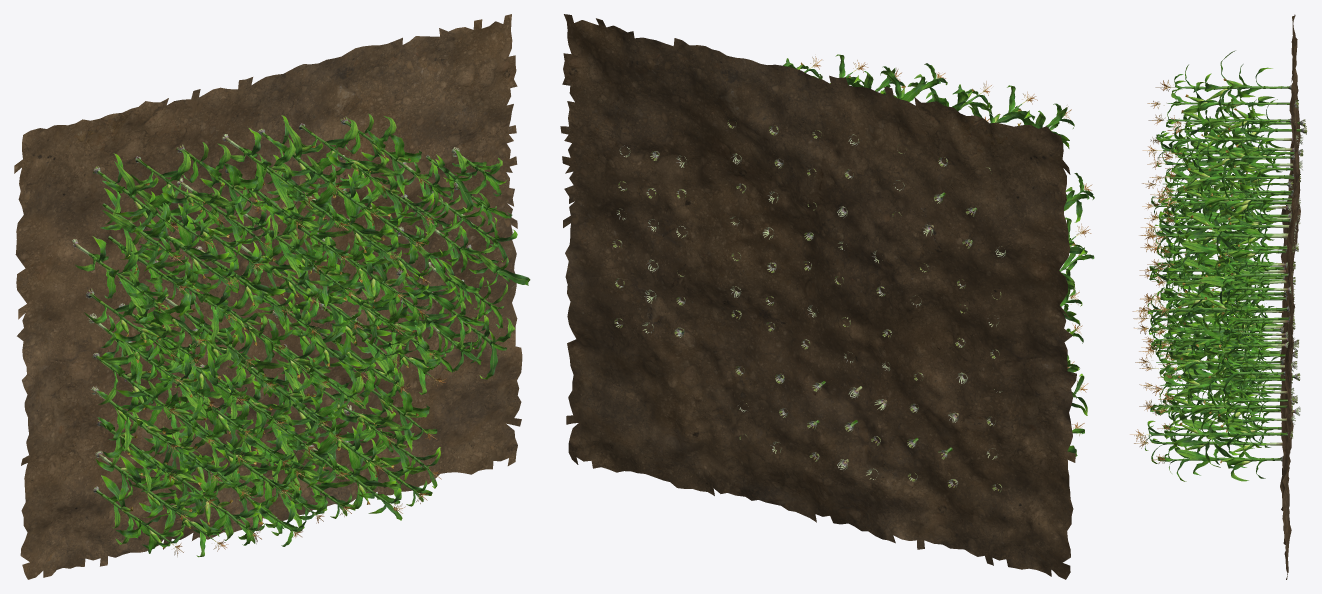
File: corn_field.fbx
3 views of the same model, side by side, from view 1: azimuth 30°, elevation 25°; view 2: azimuth 150°, elevation 25°; view 3: azimuth 270°, elevation 25° (orthographic). The views are drawn at different scales.
Visible parts, largest first — view 1: 3, 49, 25, 73, 14, 65, 41, 57, 177, 33, 145, 129 (+15 smaller); view 2: 3, 201, 73, 209, 129, 121, 81, 145; view 3: 3, 14, 41, 57, 65, 49, 25, 177, 33, 73, 113, 129 (+15 smaller).
Part boxes in pixels (<box>): 3: <box>14,14,522,579</box>; 49: <box>118,232,454,440</box>; 25: <box>132,194,402,520</box>; 73: <box>72,236,446,526</box>; 14: <box>108,155,434,518</box>; 65: <box>148,147,502,528</box>; 41: <box>168,177,429,434</box>; 57: <box>118,116,512,350</box>; 177: <box>161,149,530,483</box>; 33: <box>164,203,431,513</box>; 145: <box>92,341,192,556</box>; 129: <box>266,115,395,238</box>; 3: <box>560,14,1076,579</box>; 201: <box>892,85,1074,216</box>; 73: <box>731,173,1094,469</box>; 209: <box>897,81,992,203</box>; 129: <box>769,54,904,176</box>; 121: <box>731,63,945,261</box>; 81: <box>783,58,1094,459</box>; 145: <box>990,288,1084,492</box>; 3: <box>1280,14,1300,579</box>; 14: <box>1141,132,1303,450</box>; 41: <box>1151,136,1295,353</box>; 57: <box>1150,185,1294,403</box>; 65: <box>1139,151,1302,425</box>; 49: <box>1139,172,1295,379</box>; 25: <box>1132,196,1300,467</box>; 177: <box>1158,84,1297,413</box>; 33: <box>1134,212,1291,452</box>; 73: <box>1135,116,1302,433</box>; 113: <box>1130,263,1284,481</box>; 129: <box>1149,121,1300,218</box>.
Bounding box in the file's own units: 6061 × 5189 × 2265.
2 materials, 2 textured.
